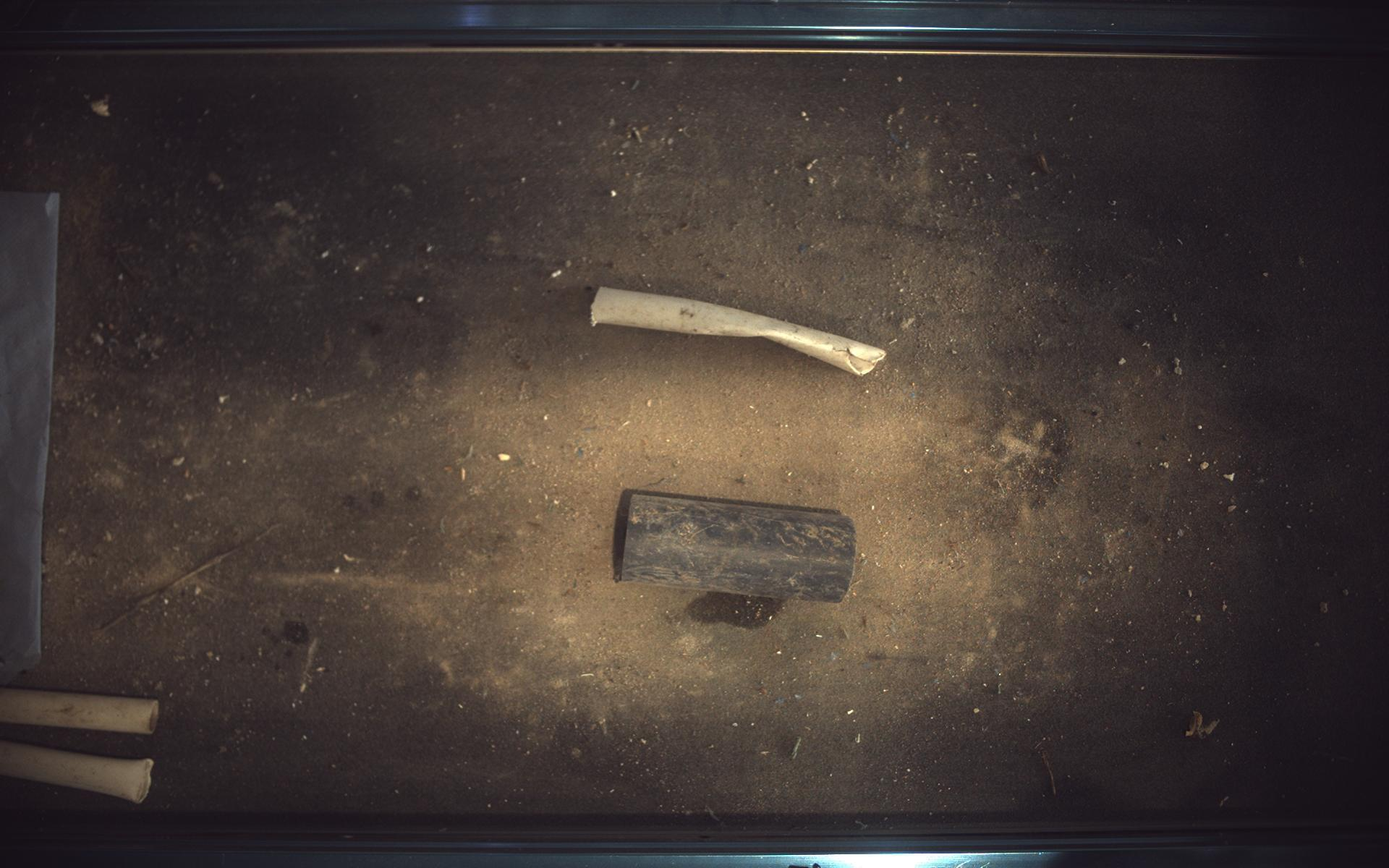pipes: (620, 491, 857, 603), (592, 286, 888, 375), (1, 743, 153, 805), (1, 689, 158, 736)
